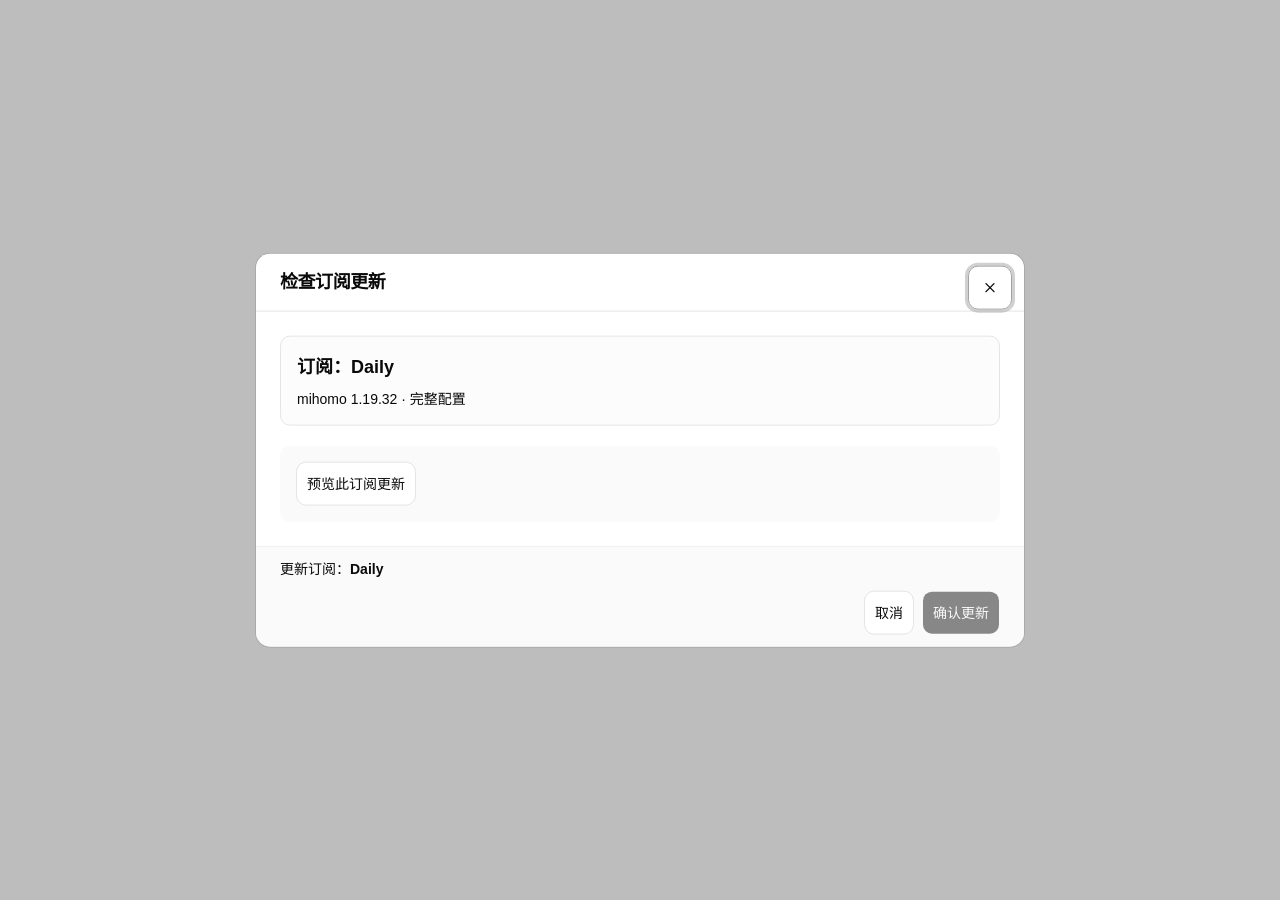
Test: keeps an incompatible revoked-output review blocked without an unapproved link promise
Check: the button with aria-label "确认更新「Daily」" is disabled, box x1=922 y1=590 x2=1000 y2=634
Click the button "预览此订阅更新".
click(356, 483)  # box x1=296 y1=461 x2=416 y2=505
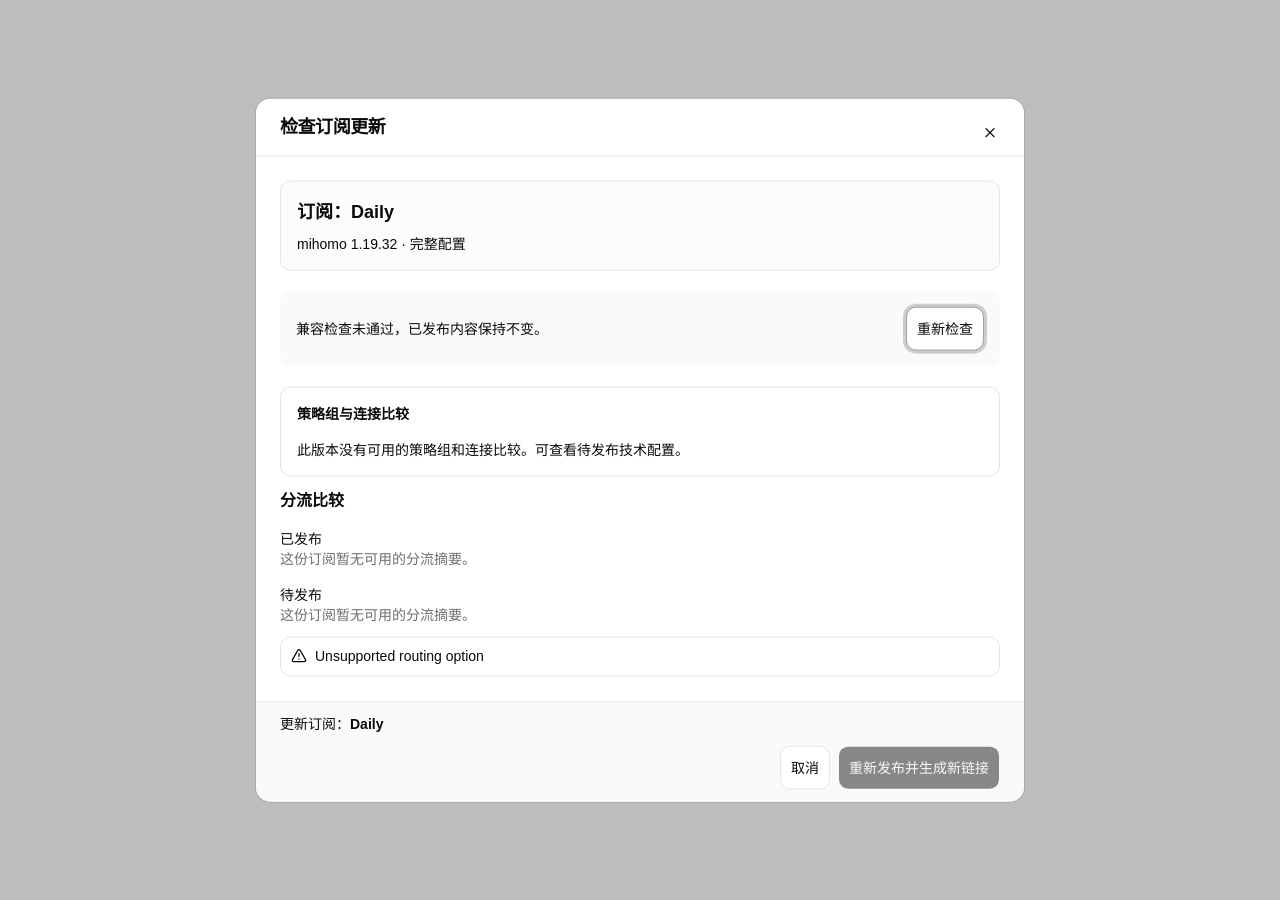
Check: the message "兼容检查未通过，已发布内容保持不变。" is shown, box x1=296 y1=318 x2=548 y2=338
Check: the text "Unsupported routing option" is shown, box x1=315 y1=647 x2=484 y2=663
Check: the button "重新检查" is shown, box x1=906 y1=306 x2=984 y2=350
